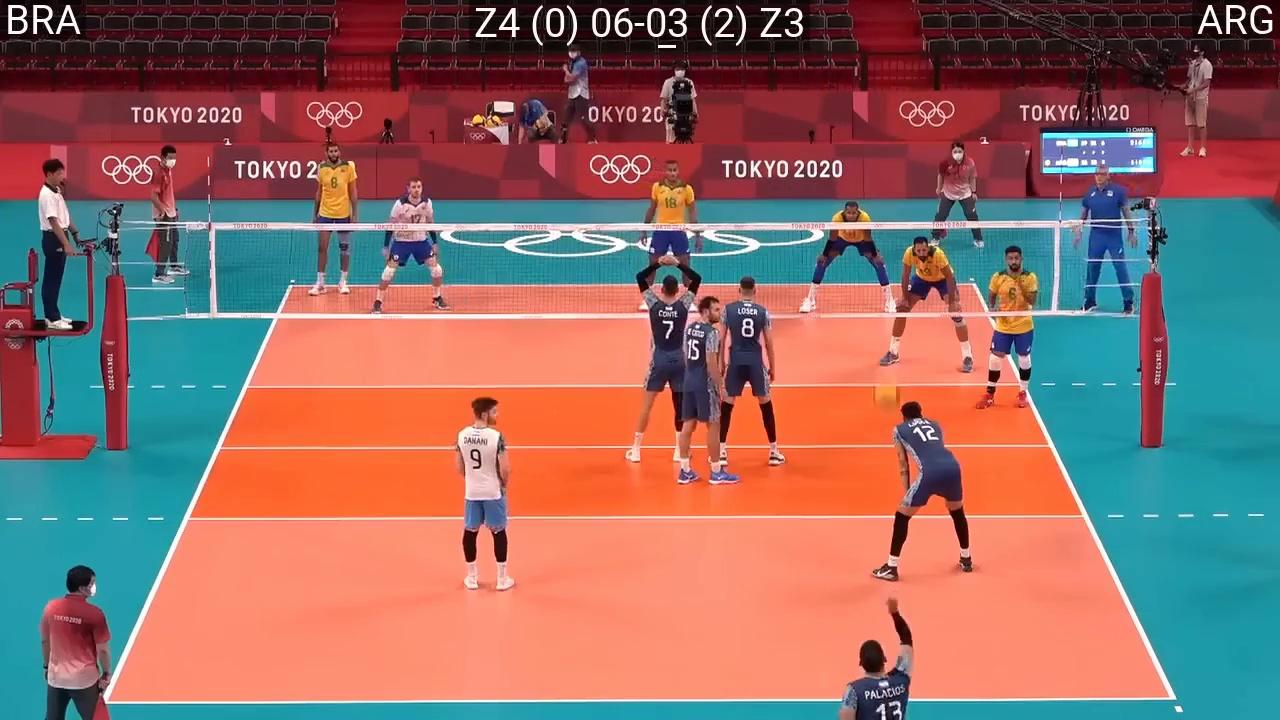ball: (876, 385, 899, 411)
